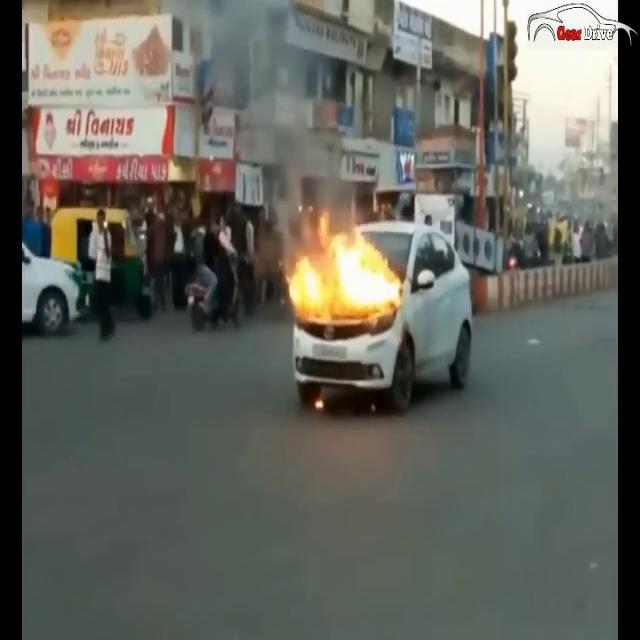Fire: (284, 209, 400, 321)
Smoke: (224, 1, 342, 235)
